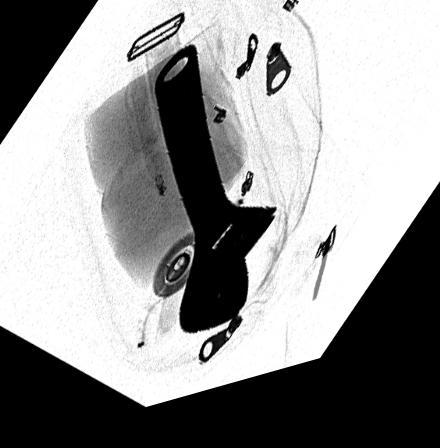Wrench: (150, 51, 277, 345)
